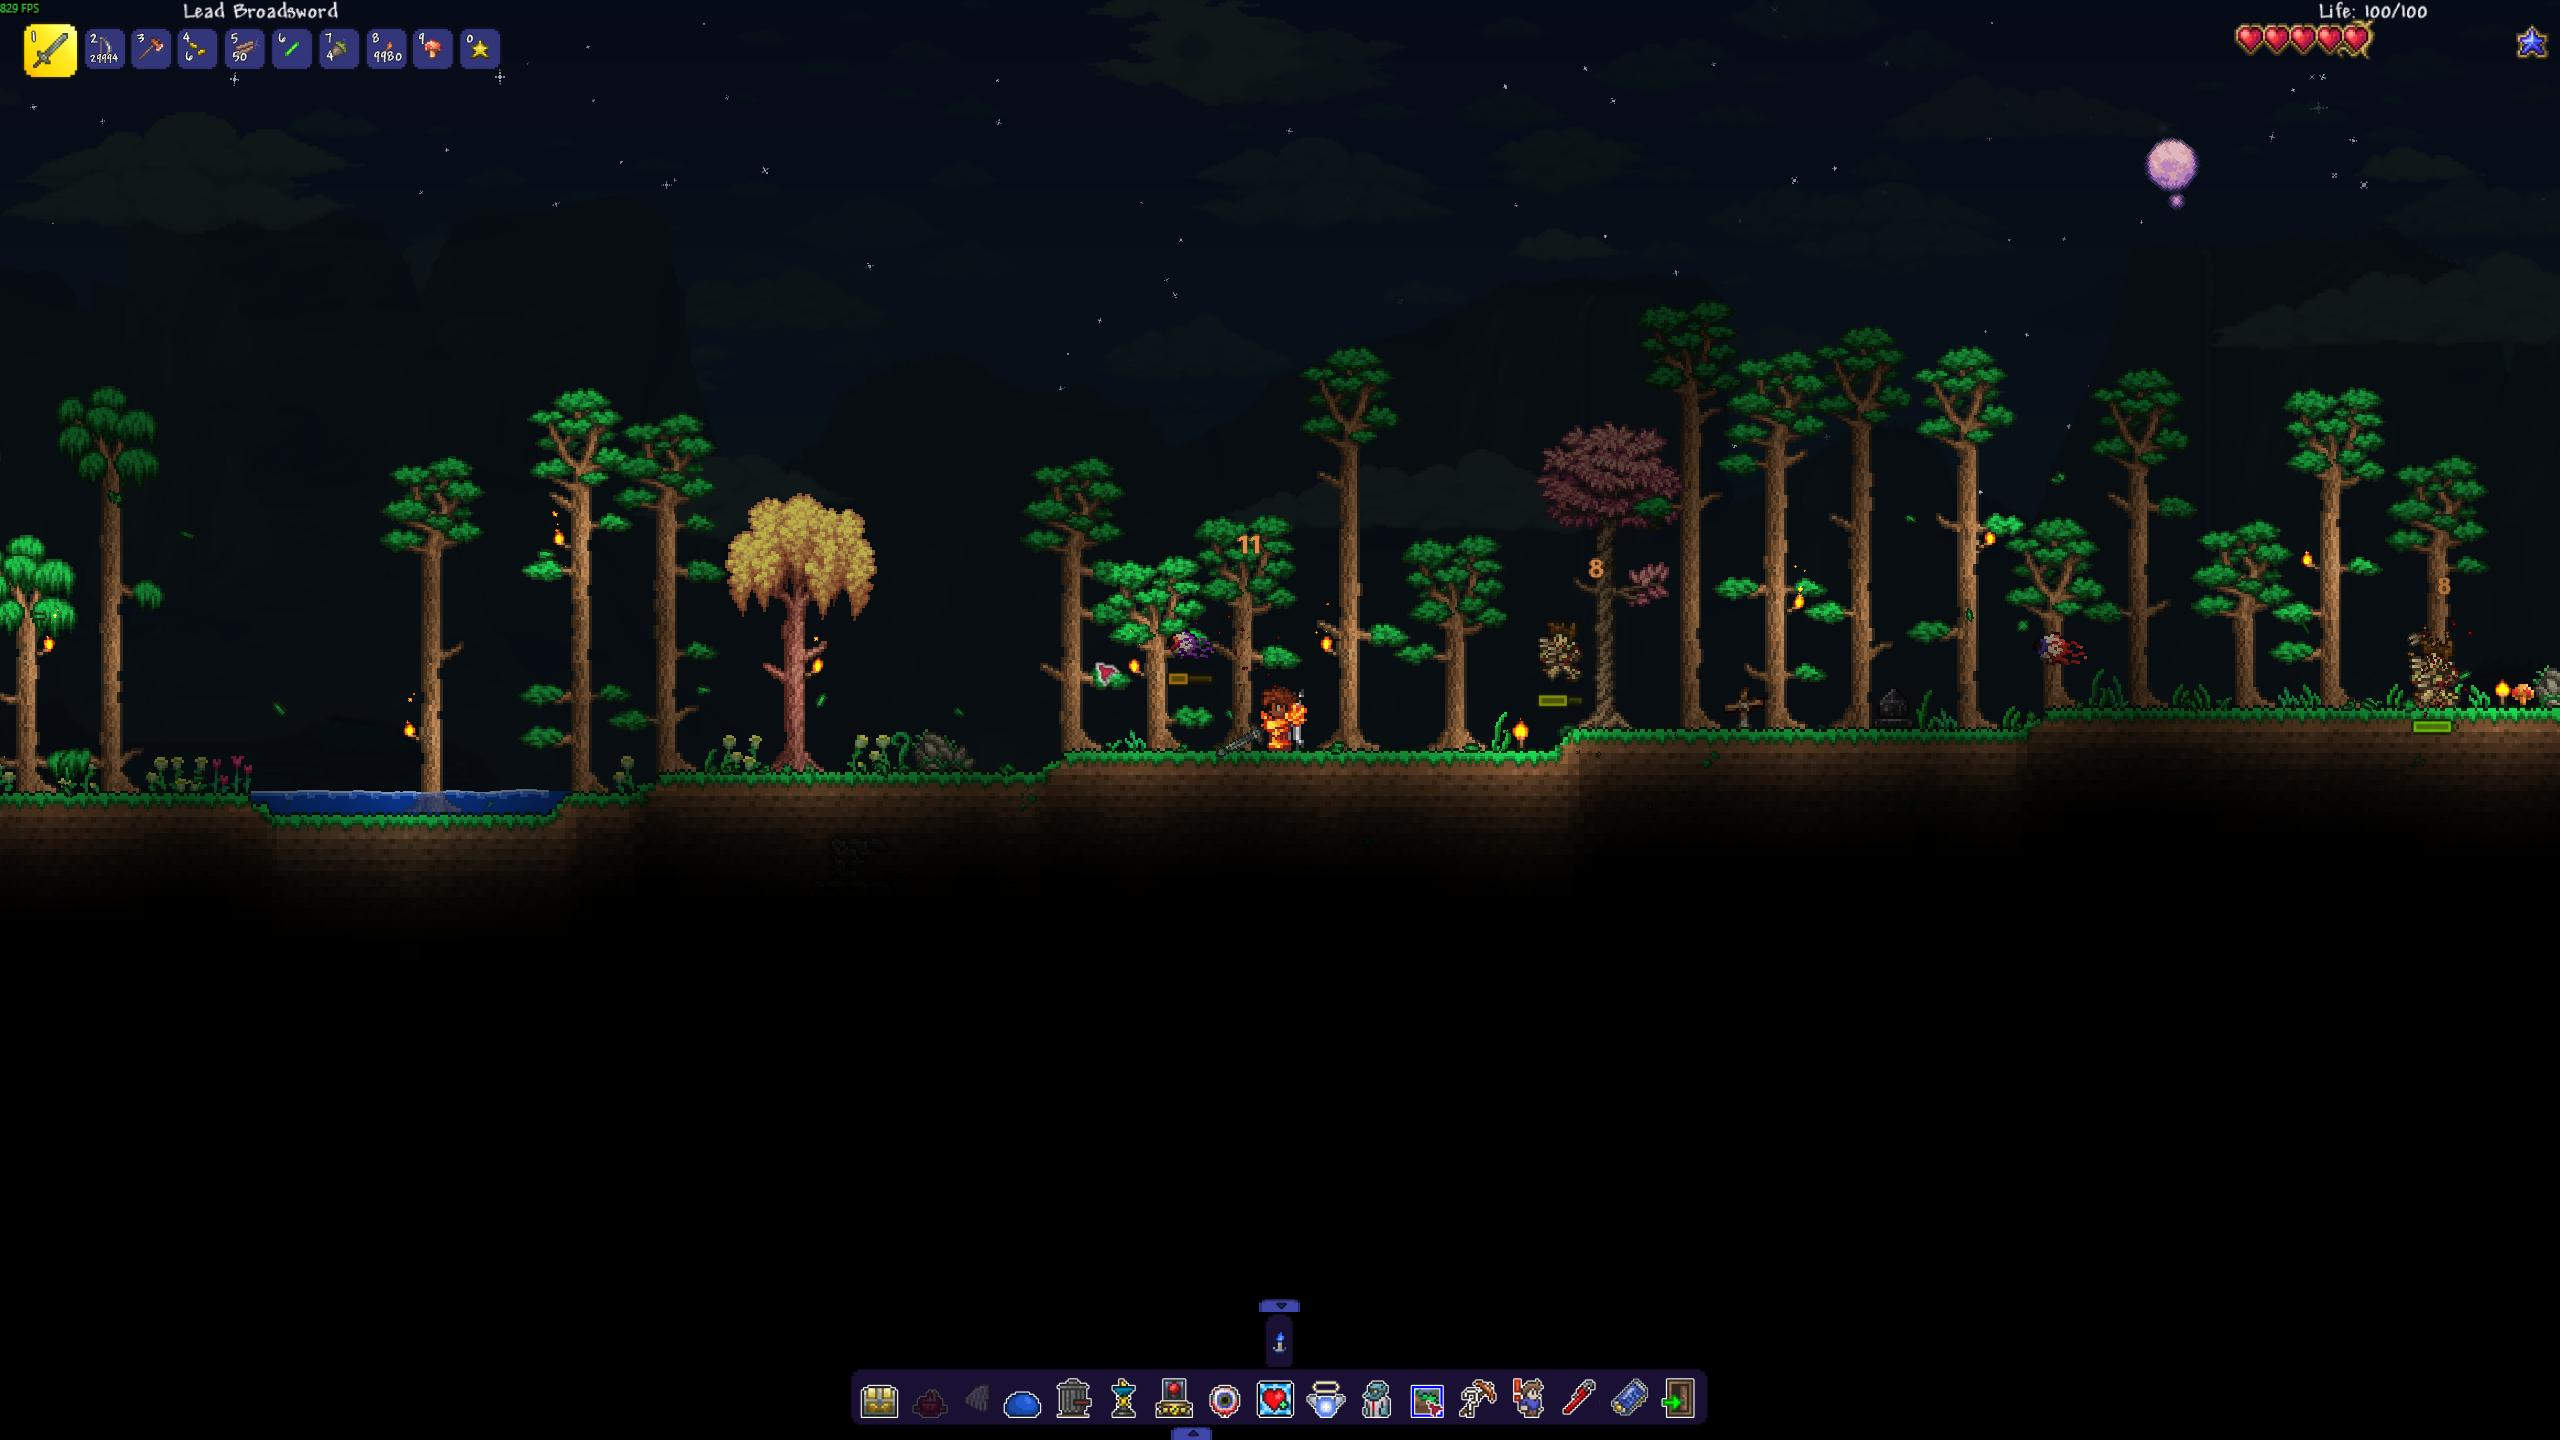Demon Eye: (2029, 622, 2092, 675), (1159, 624, 1224, 668)
Zombie: (2404, 631, 2460, 709), (1535, 615, 1588, 682)
